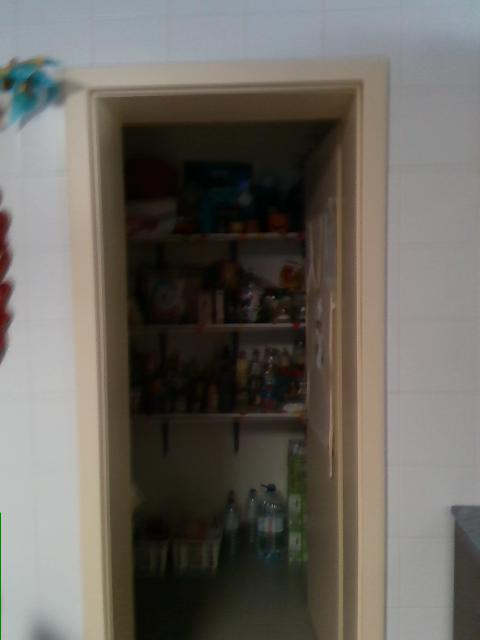open_door: (66, 67, 383, 639)
